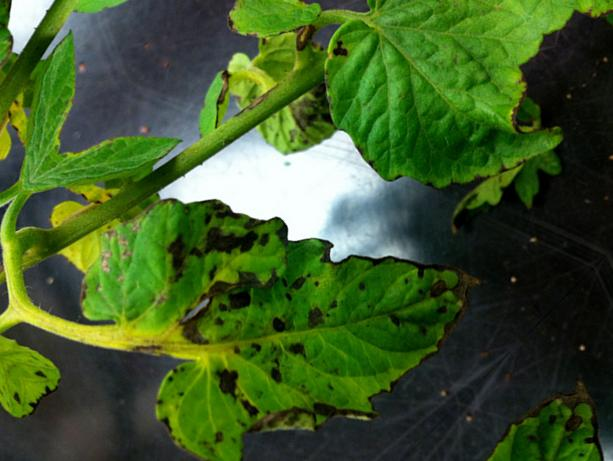Tomato leaf bacterial spot: (23, 75, 493, 461), (265, 0, 613, 281)
